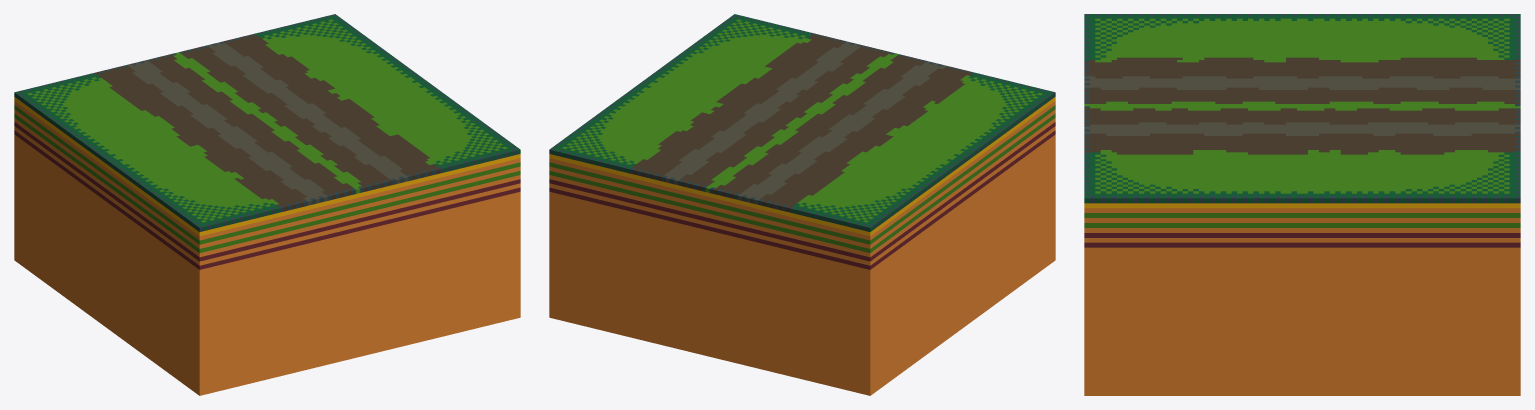
The model's file is dirt_road_1_tile.obj.
3 views of the same model, side by side, from view 1: azimuth 30°, elevation 25°; view 2: azimuth 150°, elevation 25°; view 3: azimuth 270°, elevation 25° (orthographic). The views are drawn at different scales.
Size of the model in its own units: 8 by 4 by 8.
1 material, 1 textured.
